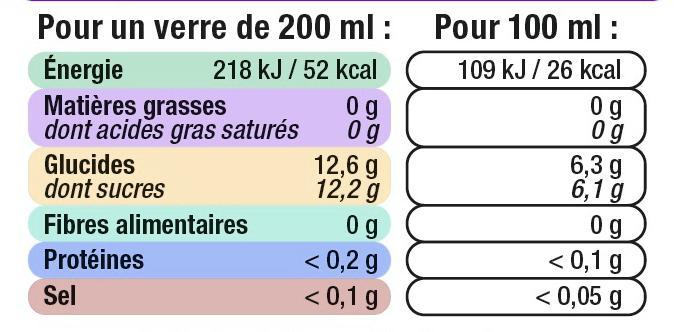column: (41, 65, 296, 316), (454, 51, 630, 300), (301, 59, 383, 309)
line: (42, 89, 622, 148), (45, 150, 621, 207), (35, 5, 618, 45), (41, 48, 621, 85), (47, 281, 629, 316), (48, 209, 625, 244), (47, 246, 630, 274)
table: (31, 4, 648, 323)
